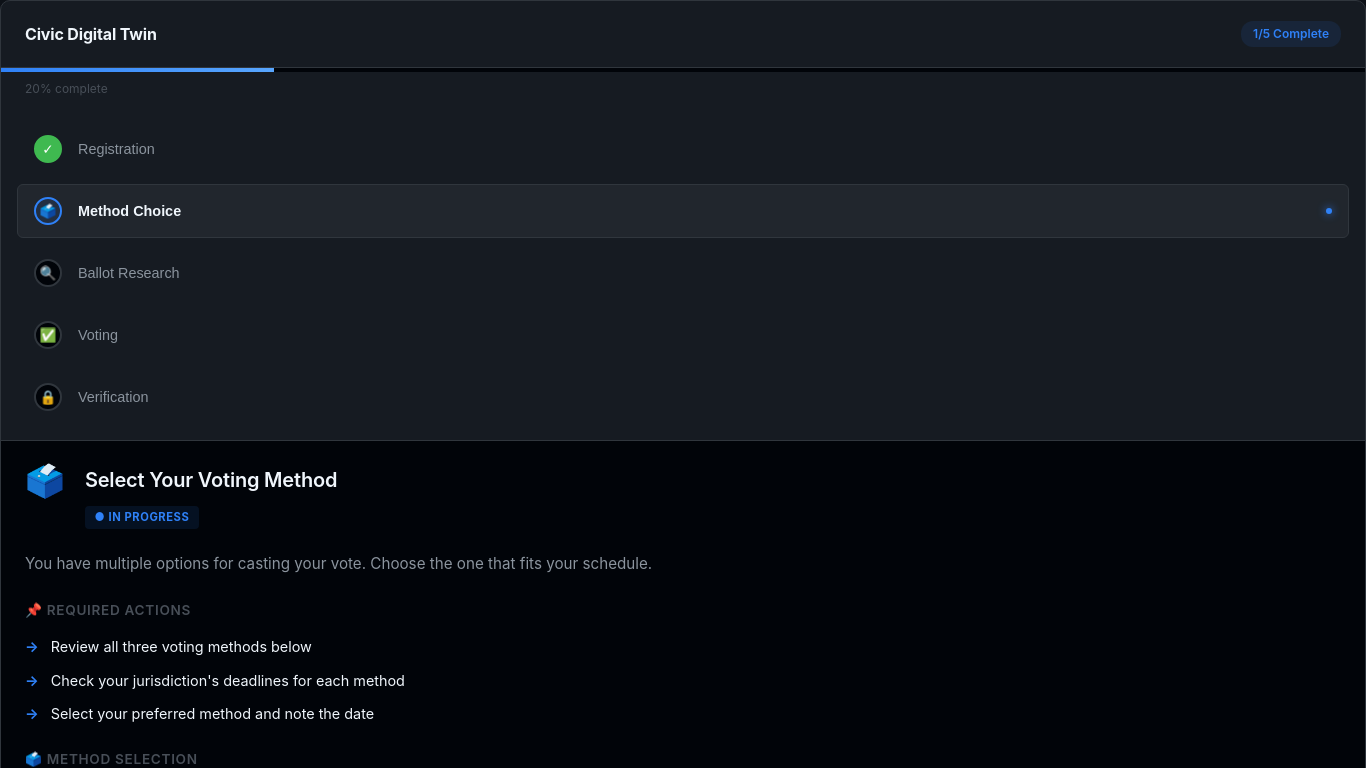
Test: Step Click Interaction › clicking Ballot Research shows its headline
Click the button "🔍 Ballot Research" at (129, 273), box [17, 246, 1349, 300]
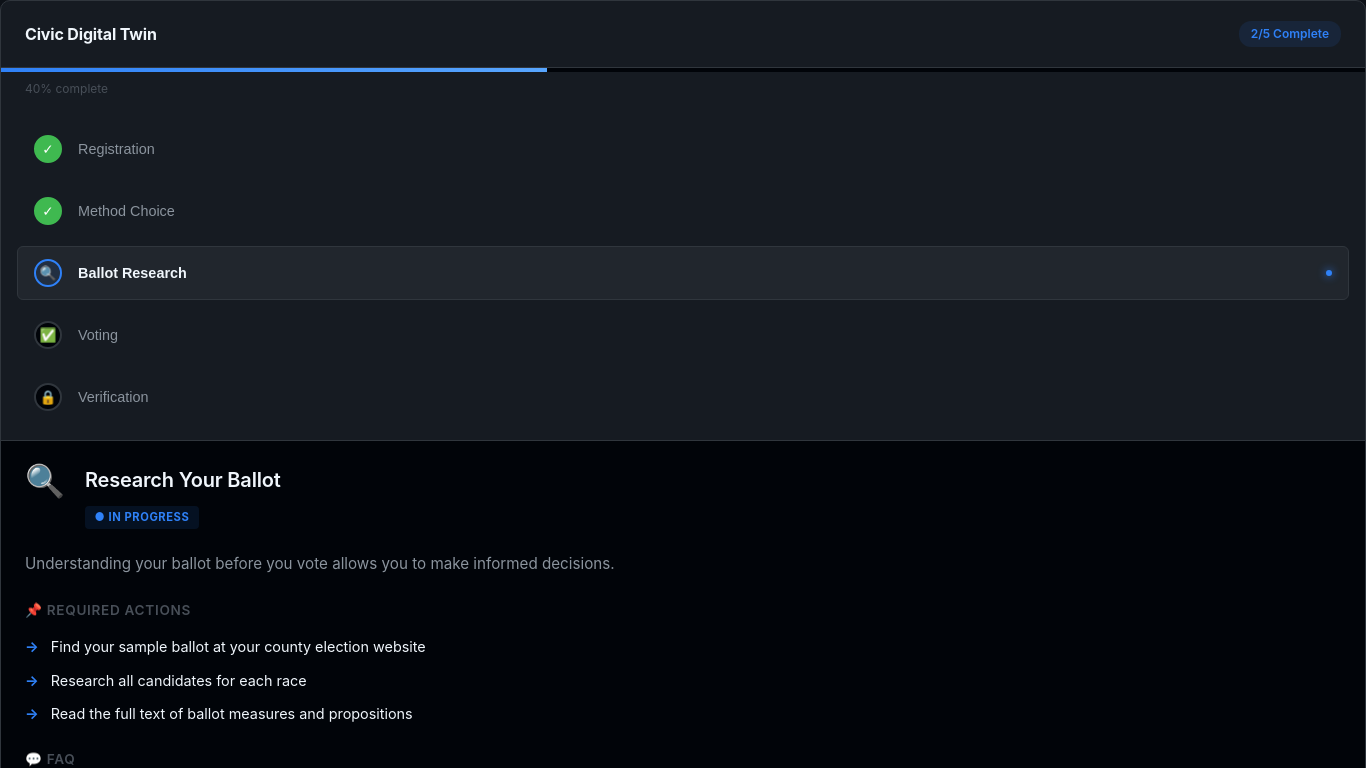
Check: the heading "Research Your Ballot" is shown, box [85, 465, 280, 495]
